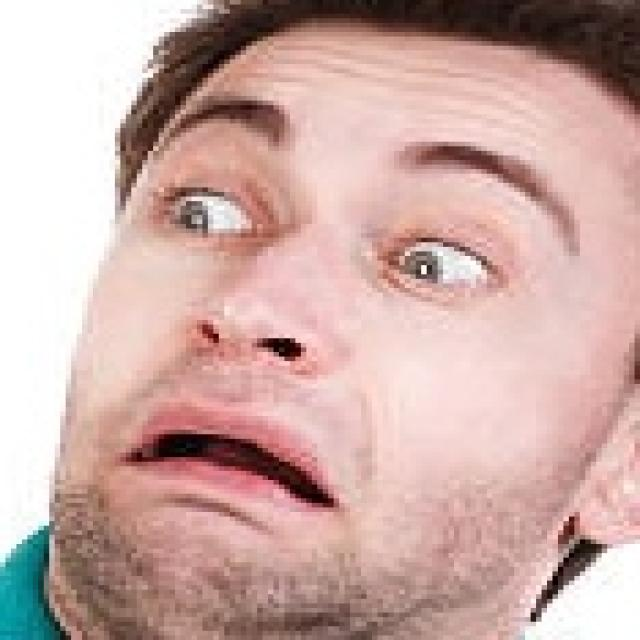Anxiety: (46, 23, 638, 635)
